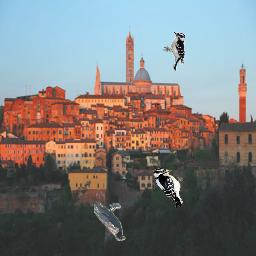Crow: (94, 201, 126, 241)
Woodpecker: (153, 168, 183, 208), (162, 31, 185, 71)
